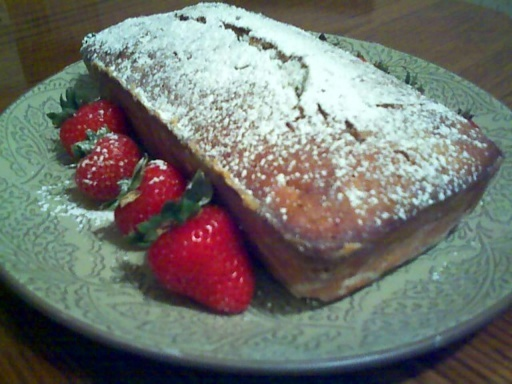background: (36, 0, 404, 189)
